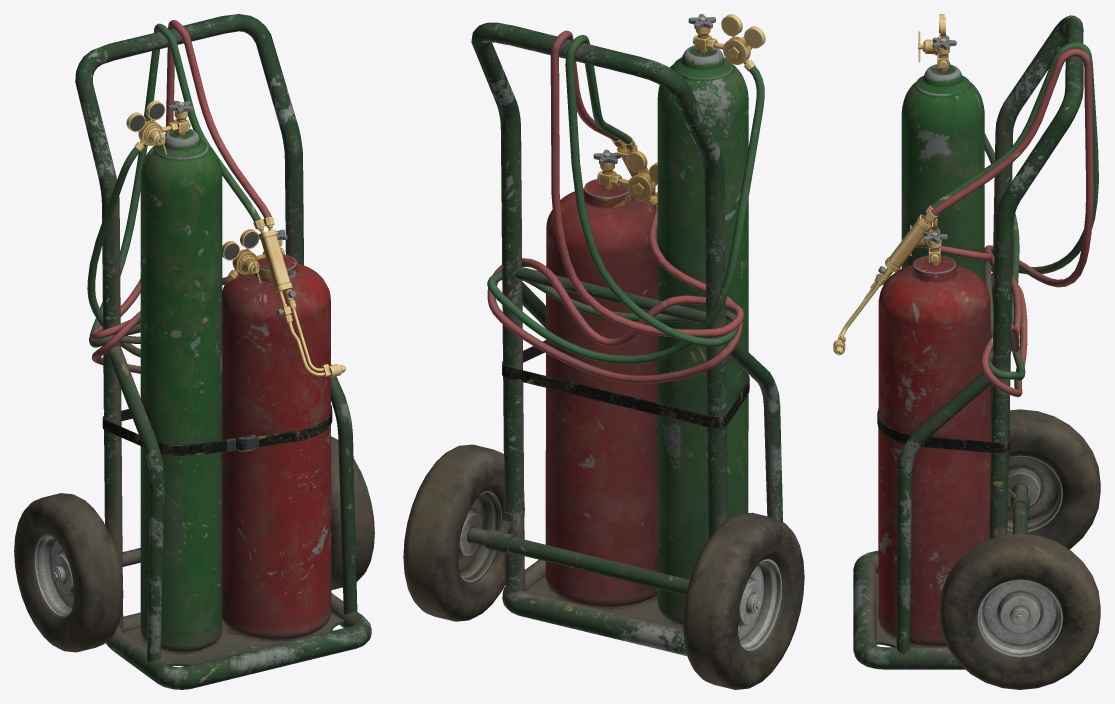
The model's file is portable_welding_cart.glb.
The picture shows the model from 3 angles, left to right: view 1: azimuth 30°, elevation 25°; view 2: azimuth 150°, elevation 25°; view 3: azimuth 270°, elevation 25°; orthographic projection. The views are drawn at different scales.
Parts seen in each view (by area): view 1: portable_welding_cart; view 2: portable_welding_cart; view 3: portable_welding_cart.
Part boxes in pixels (x1=…): portable_welding_cart: x1=14, y1=14, x2=374, y2=689; portable_welding_cart: x1=403, y1=14, x2=804, y2=689; portable_welding_cart: x1=833, y1=14, x2=1100, y2=689.
Size of the model in its own units: 0.8383 by 1.56 by 0.6549.
2 materials, 2 textured.
